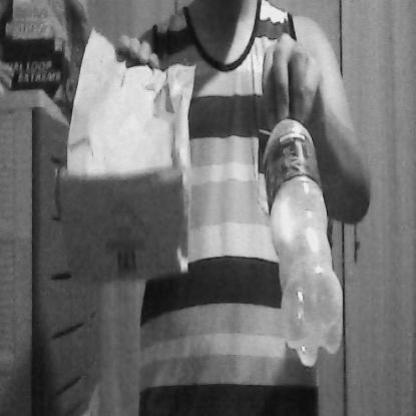Plastic Bottle: (262, 104, 350, 374)
